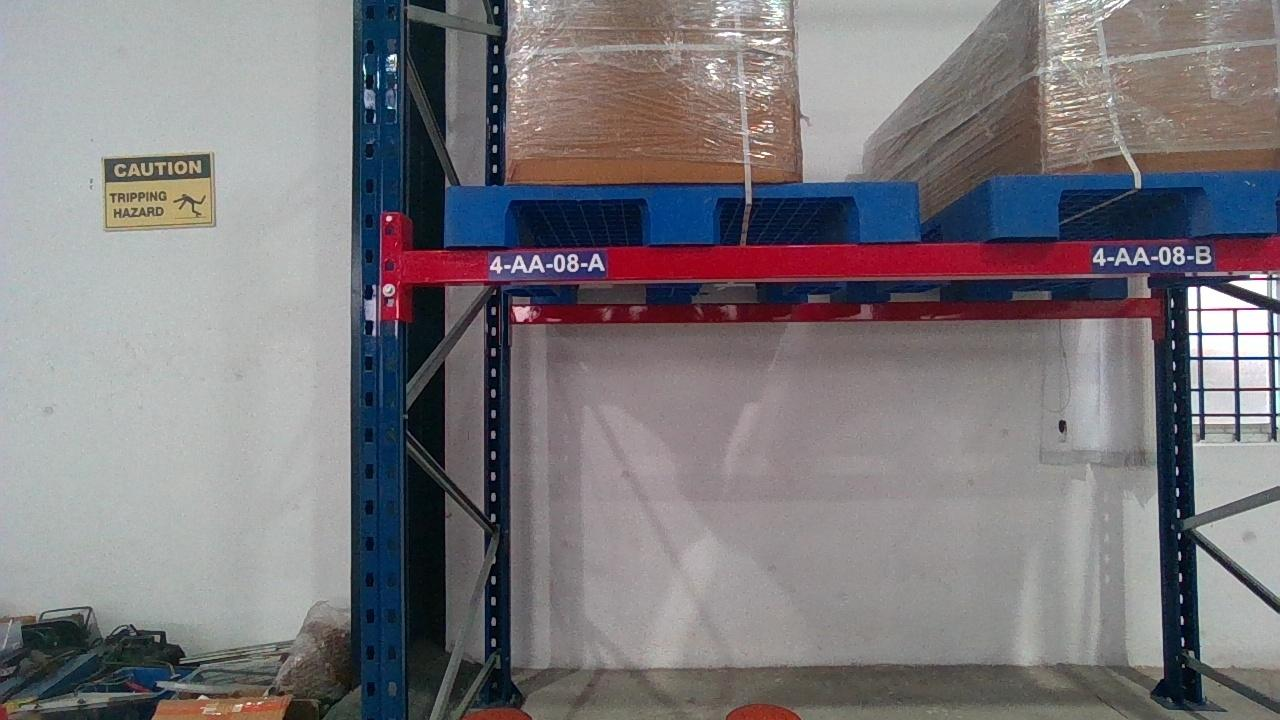h_rack: (403, 239, 1276, 280)
small_pallet: (442, 181, 920, 241), (991, 169, 1279, 232)
